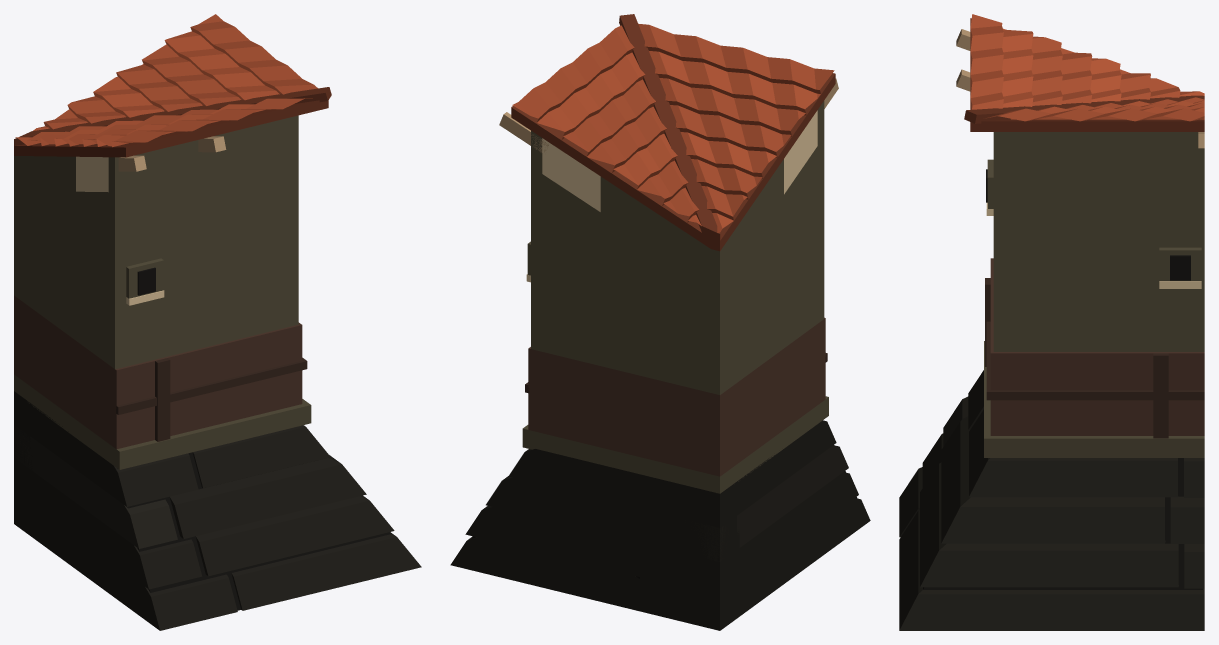
File: VerJoint04.glb
3 views of the same model, side by side, from view 1: azimuth 30°, elevation 25°; view 2: azimuth 150°, elevation 25°; view 3: azimuth 270°, elevation 25° (orthographic). The views are drawn at different scales.
Parts seen in each view (by area): view 1: VerJoint04_mortar; view 2: VerJoint04_mortar; view 3: VerJoint04_mortar.
Boxes of the visible parts, left/top/right/bottom form: VerJoint04_mortar: left=14, top=14, right=421, bottom=630; VerJoint04_mortar: left=450, top=14, right=870, bottom=630; VerJoint04_mortar: left=899, top=14, right=1204, bottom=630.
Bounding box in the file's own units: 3.29 × 5.61 × 3.19.
